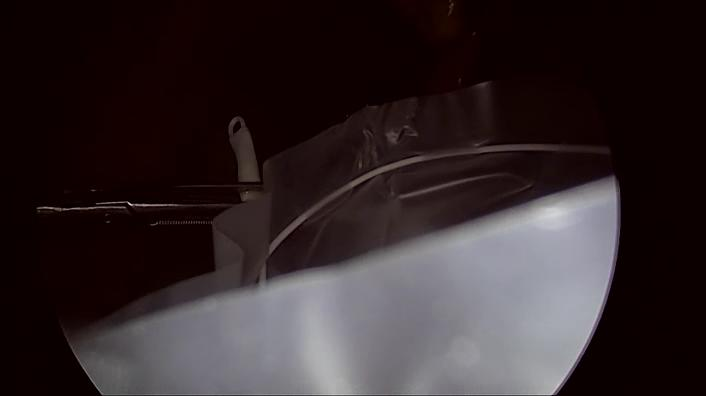Grasper: (56, 154, 284, 272)
SpecimenBag: (115, 106, 560, 371)
